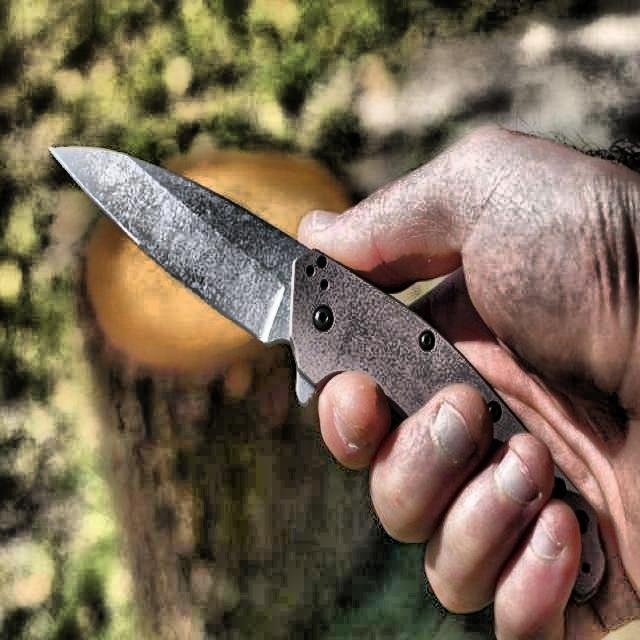knife: (51, 145, 607, 605)
